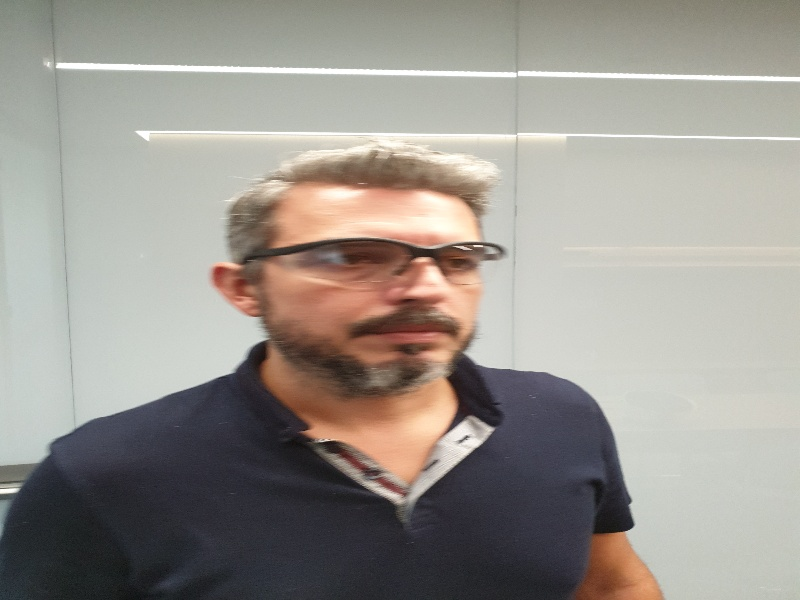Gozluk: (248, 236, 510, 294)
